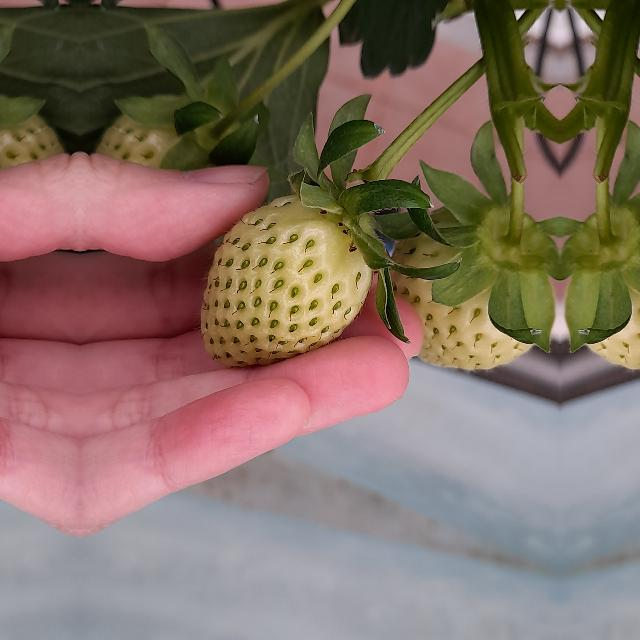Health_25: (200, 194, 372, 366), (390, 190, 552, 370), (568, 190, 640, 370)
